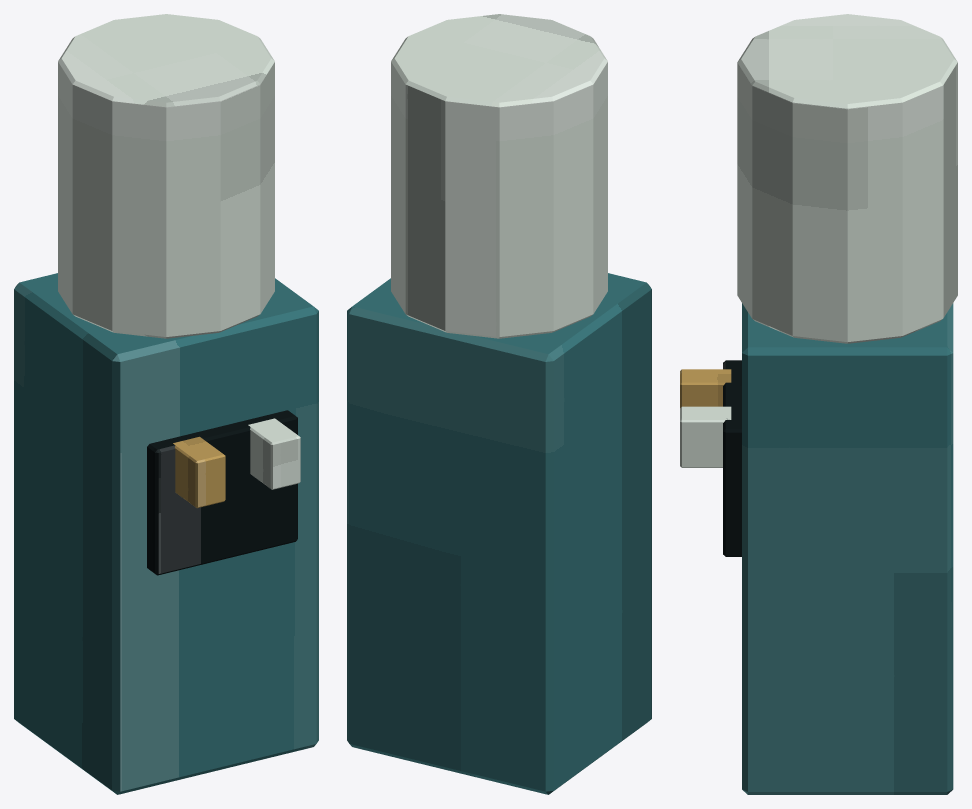
File: office_water_cooler_teal.glb
The picture shows the model from 3 angles, left to right: view 1: azimuth 30°, elevation 25°; view 2: azimuth 150°, elevation 25°; view 3: azimuth 270°, elevation 25°; orthographic projection.
Parts seen in each view (by area): view 1: CoolerBody, Bottle, DispenserWell, Tap_1, Tap_0; view 2: CoolerBody, Bottle; view 3: CoolerBody, Bottle, DispenserWell, Tap_1, Tap_0.
Boxes of the visible parts, x1=… form: CoolerBody: x1=14, y1=273, x2=318, y2=794; Bottle: x1=58, y1=14, x2=274, y2=338; DispenserWell: x1=147, y1=410, x2=297, y2=575; Tap_1: x1=248, y1=418, x2=300, y2=489; Tap_0: x1=173, y1=436, x2=225, y2=508; CoolerBody: x1=347, y1=273, x2=651, y2=794; Bottle: x1=391, y1=14, x2=607, y2=338; CoolerBody: x1=742, y1=303, x2=953, y2=794; Bottle: x1=737, y1=14, x2=957, y2=343; DispenserWell: x1=723, y1=360, x2=741, y2=556; Tap_1: x1=680, y1=406, x2=731, y2=467; Tap_0: x1=680, y1=369, x2=731, y2=407.
Bounding box in the file's own units: 0.55 × 1.72 × 0.63.
1 material, 1 textured.
